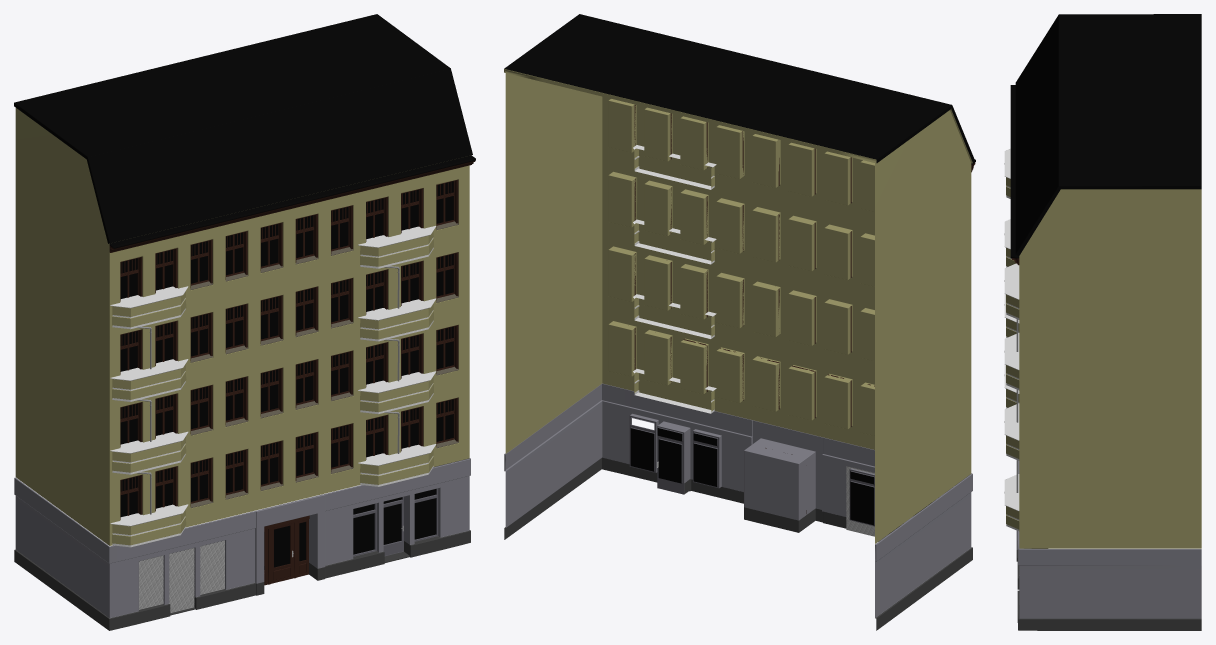
The model's file is building_yellow.fbx.
The picture shows the model from 3 angles, left to right: view 1: azimuth 30°, elevation 25°; view 2: azimuth 150°, elevation 25°; view 3: azimuth 270°, elevation 25°; orthographic projection. The views are drawn at different scales.
Visible parts, largest first — view 1: building_yellow; view 2: building_yellow; view 3: building_yellow.
Boxes of the visible parts, x1,y1,x2,y2 form: building_yellow: [14, 14, 475, 630]; building_yellow: [504, 14, 975, 630]; building_yellow: [1004, 14, 1201, 630].
Size of the model in its own units: 1452 by 1754 by 703.
